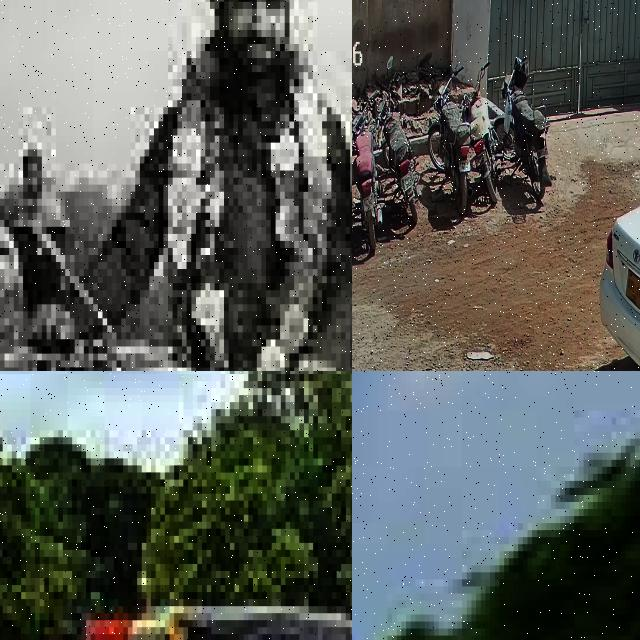bike: (9, 311, 352, 371), (493, 56, 551, 200), (376, 56, 422, 223), (428, 66, 472, 214), (460, 61, 502, 202), (352, 92, 382, 248)
car: (598, 145, 640, 371)
